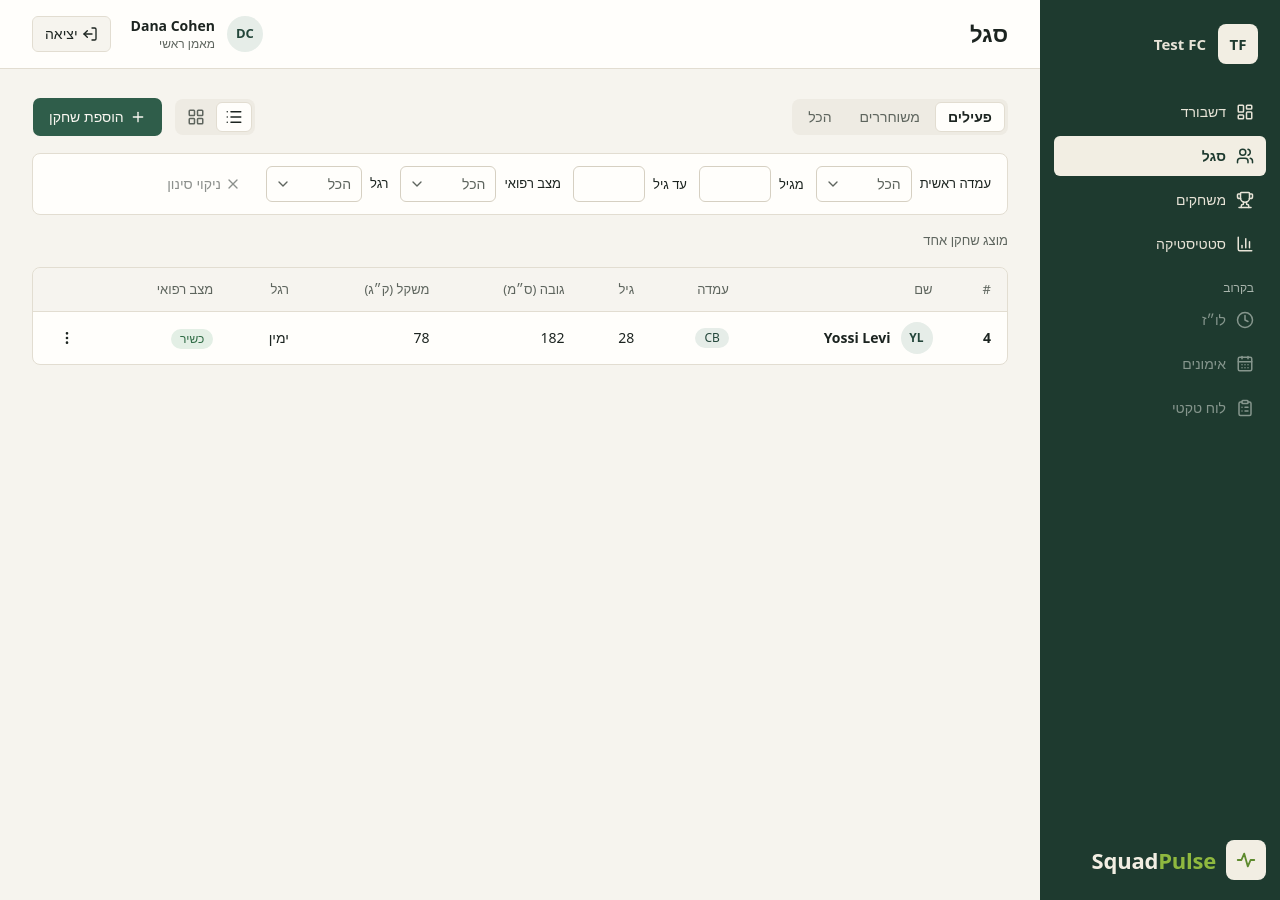
Scenario: the row menu's in-place actions › open their dialog once the menu has closed, focus inside it
The width and height of the screenshot is (1280, 900).
Expected: the link "Yossi Levi" is shown, top-left (824, 328), bottom-right (890, 348)
Click the button named "פעולות עבור Yossi Levi" at (67, 338), box top-left (49, 320), bottom-right (85, 356)
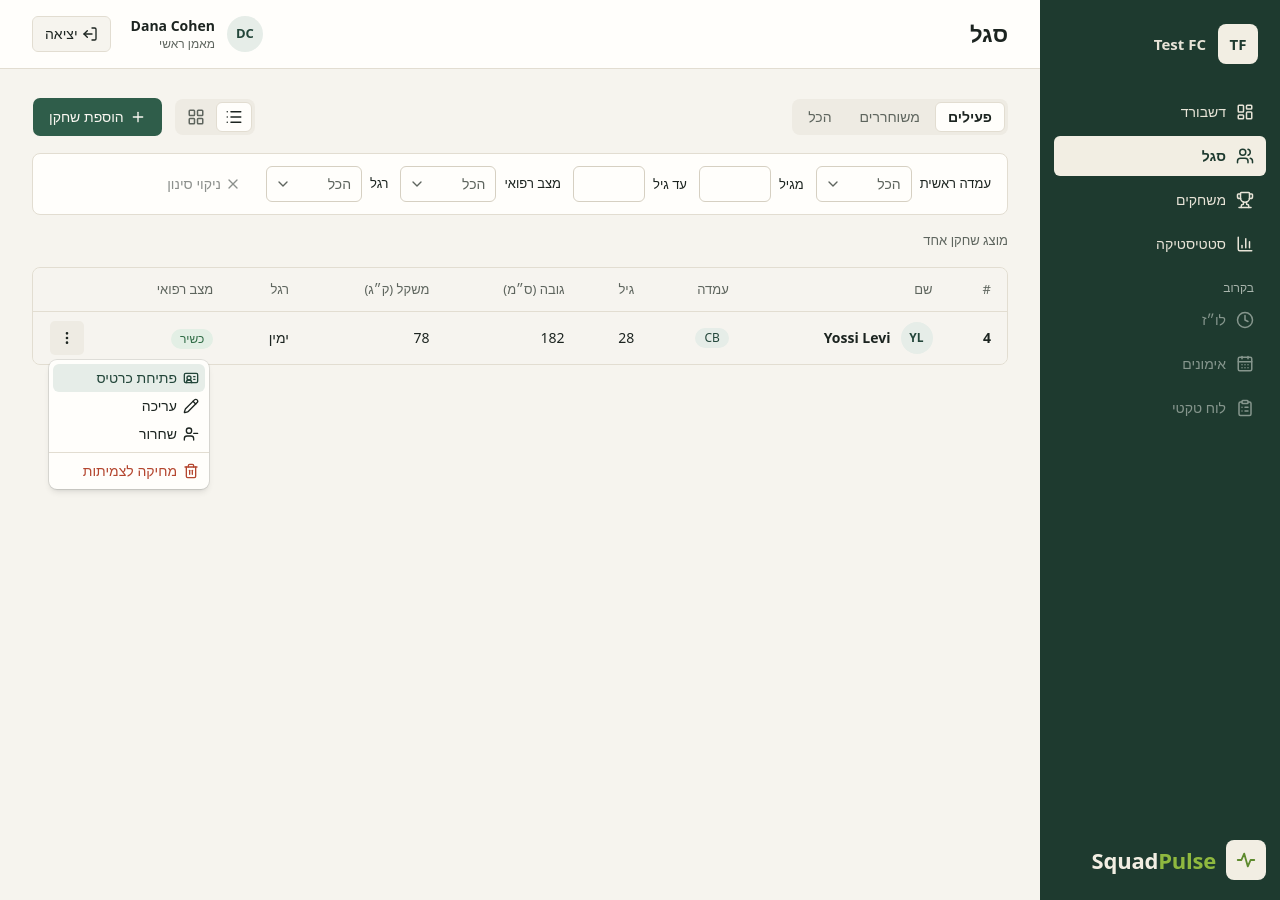
Click the menu item "שחרור" at (169, 434), box top-left (139, 424), bottom-right (199, 443)
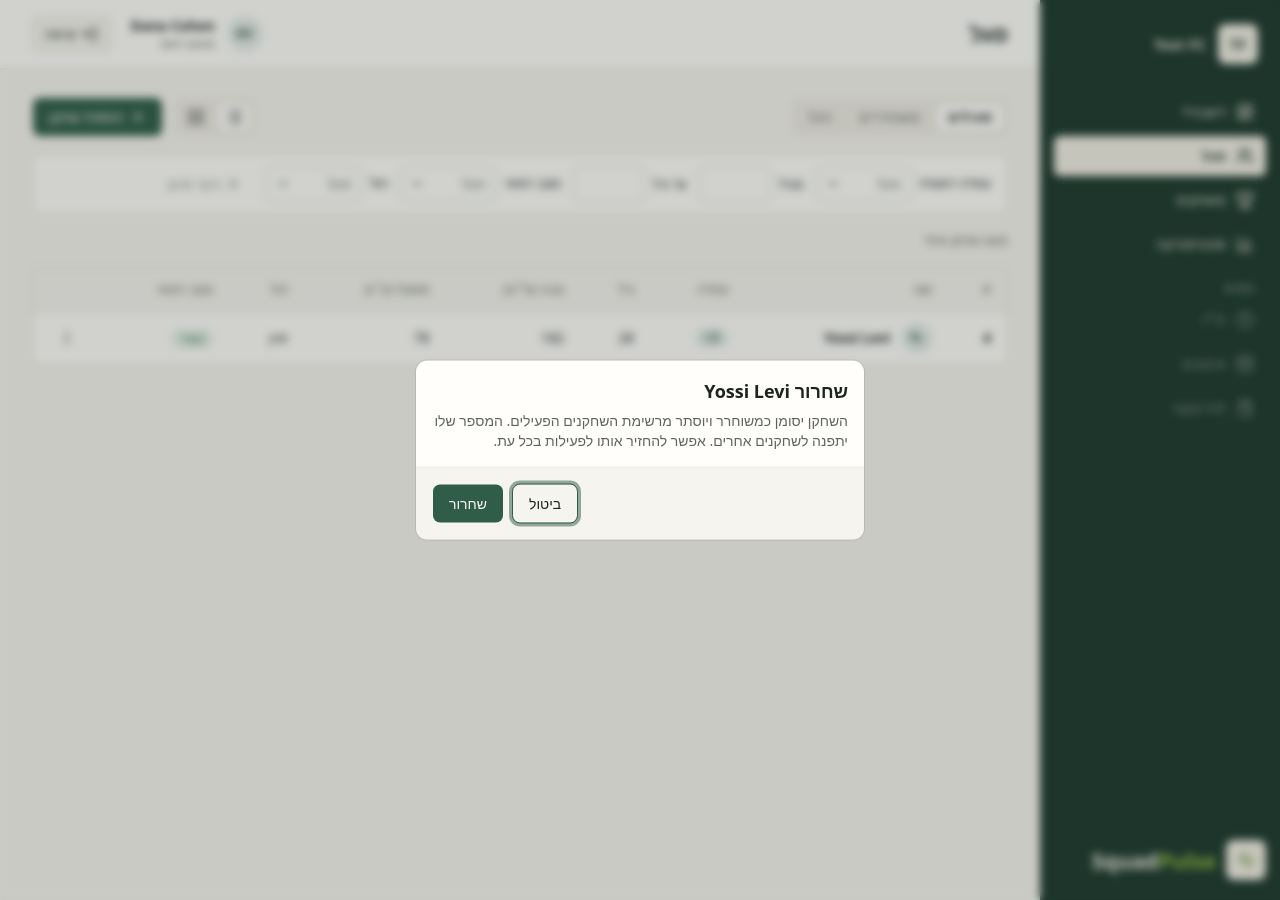
Result: the menu is gone
